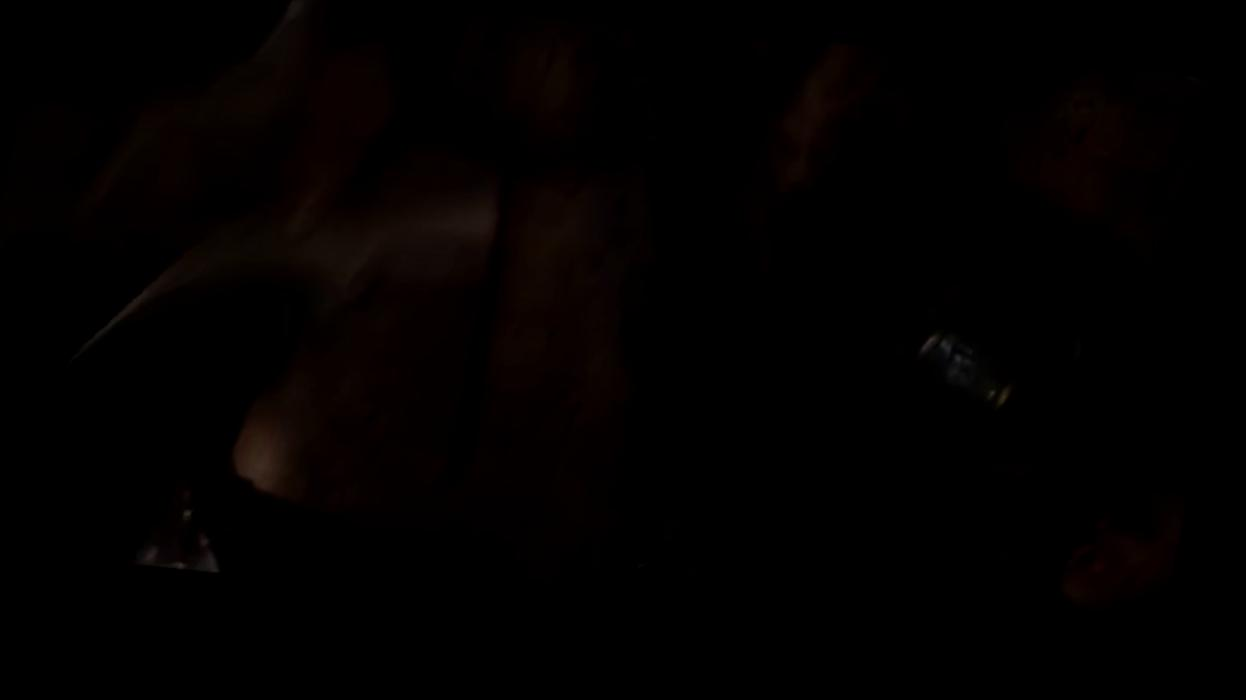Fire: (364, 32, 1239, 630)
